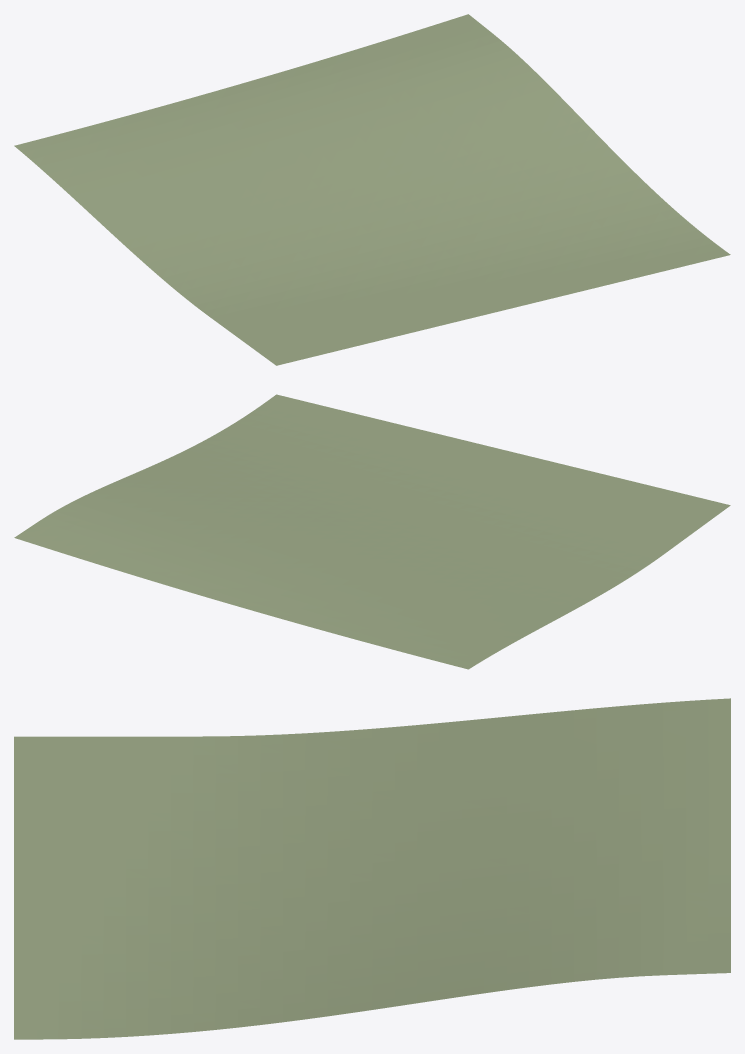
Rendered from valley-0-7.glb.
The picture shows the model from 3 angles, top to bottom: view 1: azimuth 30°, elevation 25°; view 2: azimuth 150°, elevation 25°; view 3: azimuth 270°, elevation 25°; orthographic projection. The views are drawn at different scales.
Visible parts, largest first — view 1: valley-0-7; view 2: valley-0-7; view 3: valley-0-7.
Boxes of the visible parts, <box> form: valley-0-7: <box>14,14,730,365</box>; valley-0-7: <box>14,394,730,669</box>; valley-0-7: <box>14,698,730,1039</box>.
Bounding box in the file's own units: 256 × 26.21 × 256.
